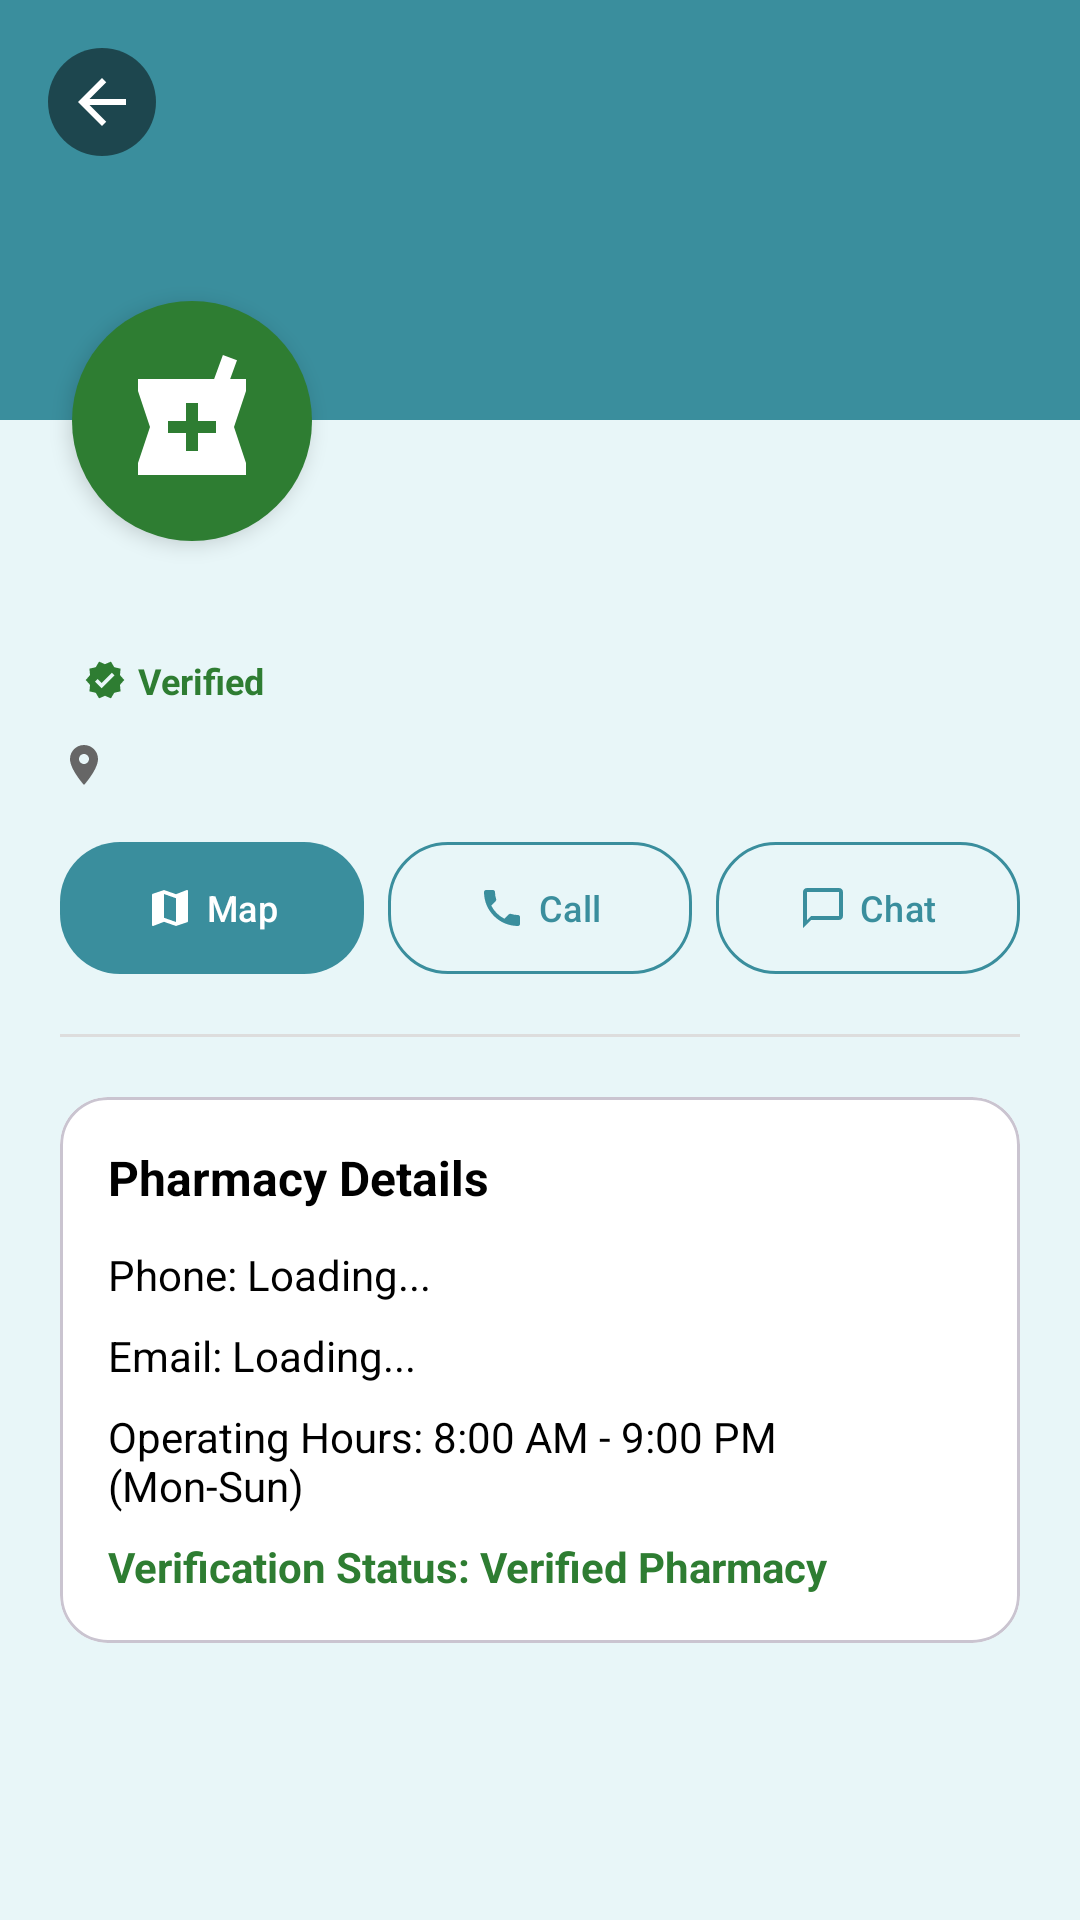

Screen size 1080px×1920px. Icon name, then its center in pixels as (x=x, y=y):
Back: (x=102, y=102)
Pharmacy Avatar: (x=192, y=421)
